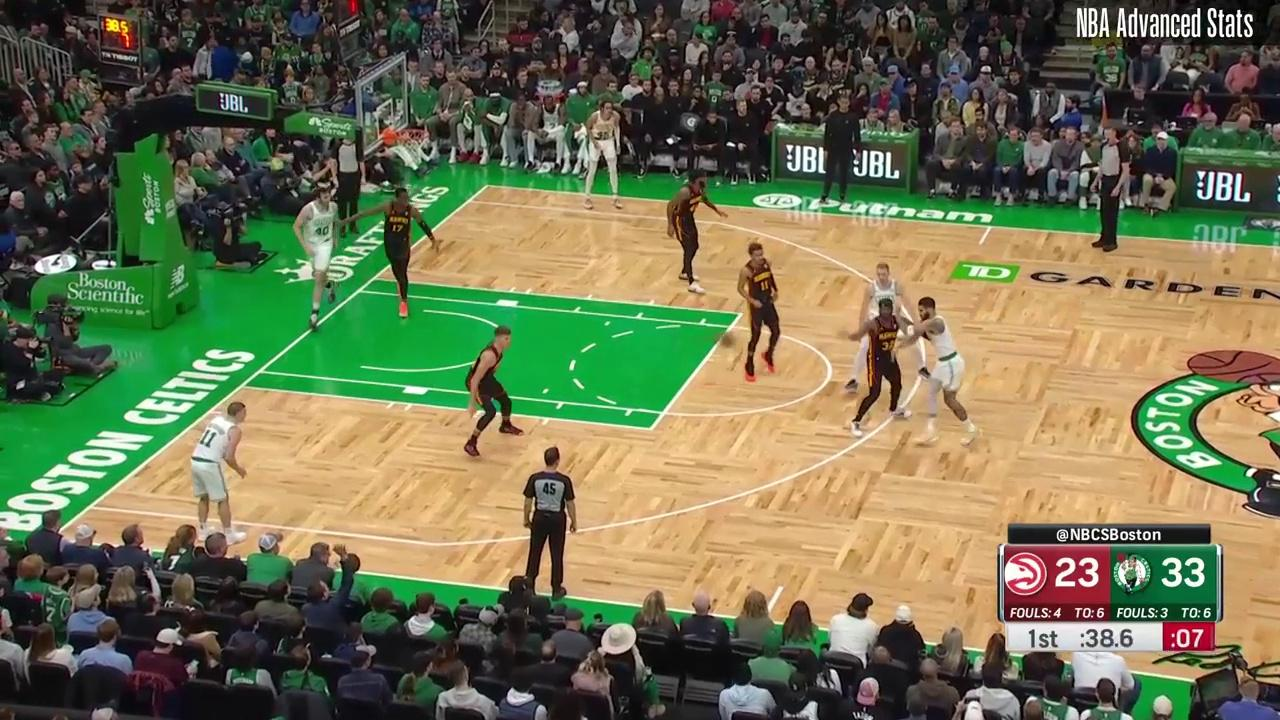3_dx: (466, 199, 471, 204)
3_sx: (87, 504, 93, 510)
b_dx: (484, 184, 489, 189)
free_adx: (738, 312, 743, 317)
free_asx: (648, 426, 654, 432)
free_bdx: (371, 277, 376, 281)
free_bsx: (239, 383, 244, 389)
mid_dx: (978, 241, 983, 246)
referee: (522, 445, 576, 600), (1090, 127, 1129, 252), (331, 130, 365, 237)
team: (894, 297, 977, 446), (845, 262, 931, 390), (191, 401, 249, 547), (293, 187, 339, 331), (584, 100, 624, 210)
team1: (338, 187, 439, 319), (848, 298, 932, 437), (463, 324, 525, 457), (666, 172, 728, 294), (738, 242, 781, 381)
timer: (1075, 627, 1135, 651)
